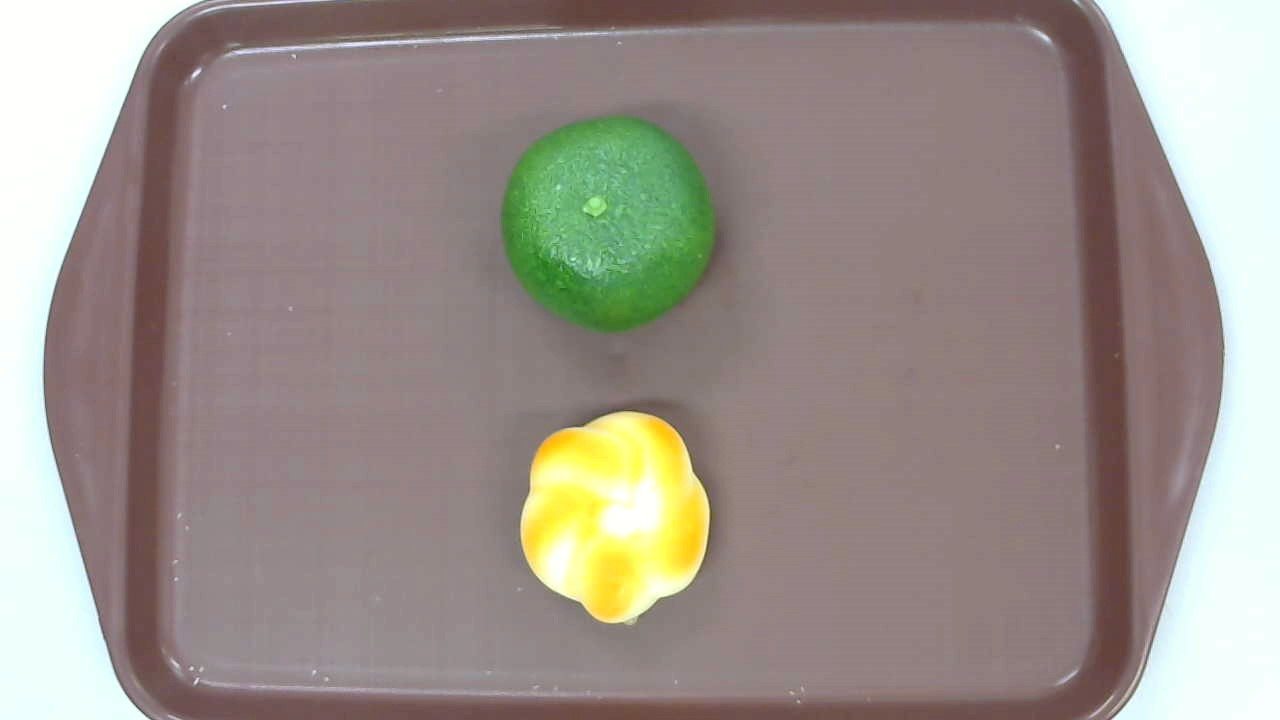green orange: (501, 116, 718, 333)
twist bread: (519, 408, 709, 626)
